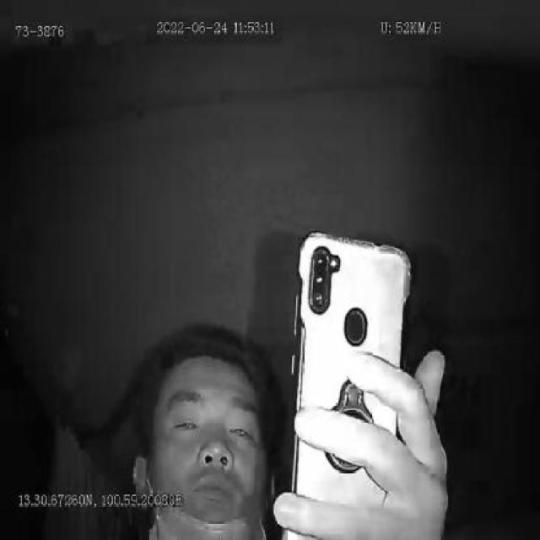phone: (290, 228, 413, 540)
